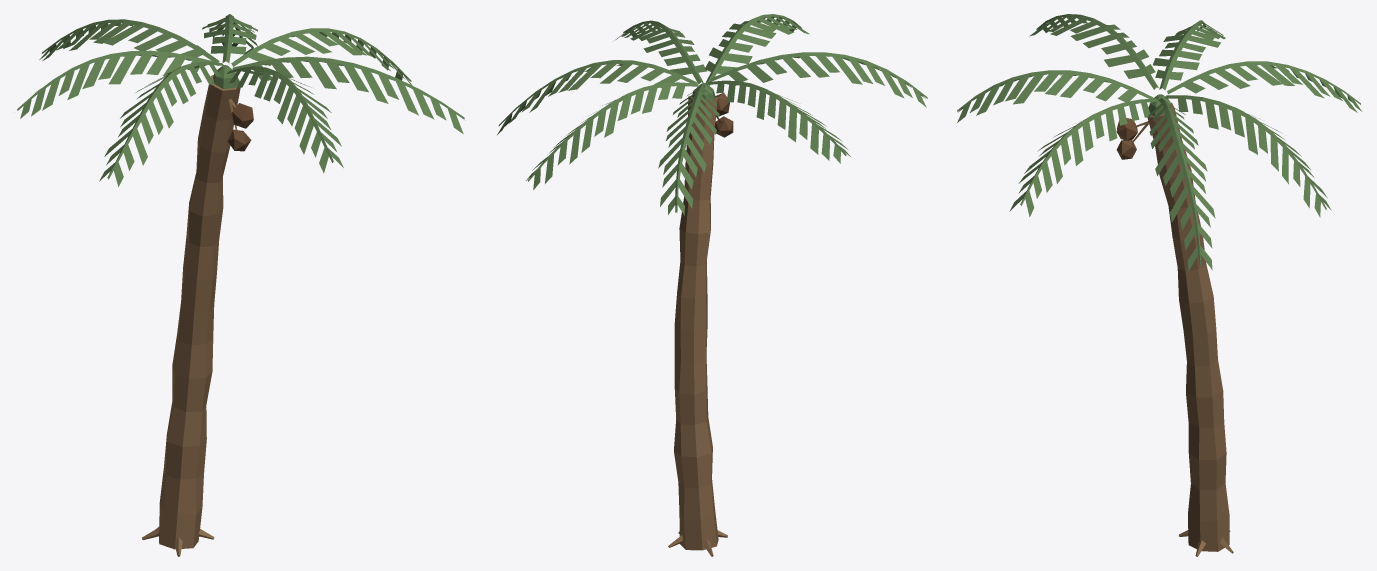
File: palm_tree.glb
3 views of the same model, side by side, from view 1: azimuth 30°, elevation 25°; view 2: azimuth 150°, elevation 25°; view 3: azimuth 270°, elevation 25° (orthographic). The views are drawn at different scales.
Visible parts, largest first — view 1: palm_tree; view 2: palm_tree; view 3: palm_tree.
Part boxes in pixels (left/top/right/bottom): palm_tree: left=17, top=14, right=465, bottom=556; palm_tree: left=497, top=14, right=927, bottom=556; palm_tree: left=957, top=14, right=1362, bottom=556.
Size of the model in its own units: 5.91 by 7.5 by 5.63.
